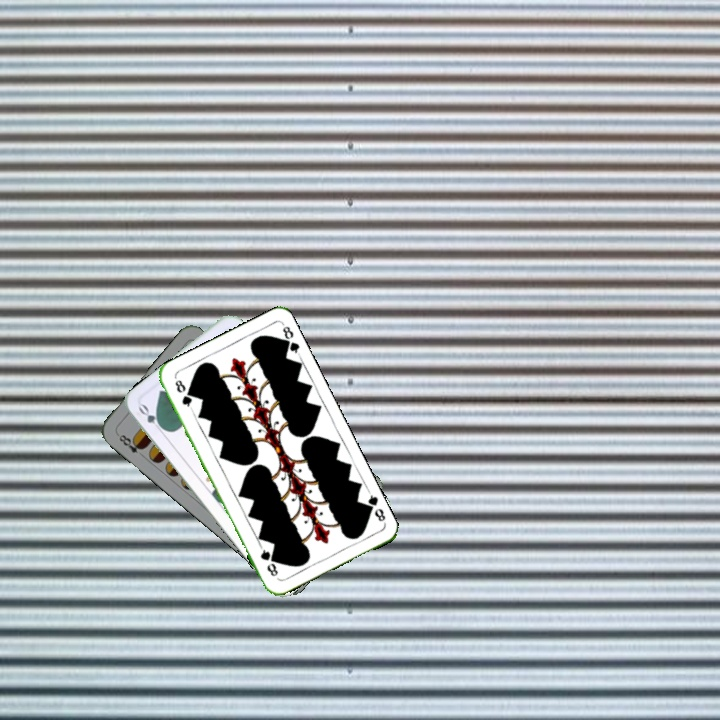E8: (113, 429, 147, 460)
G8: (360, 488, 388, 524), (171, 375, 195, 412)
GO: (134, 400, 168, 436)
